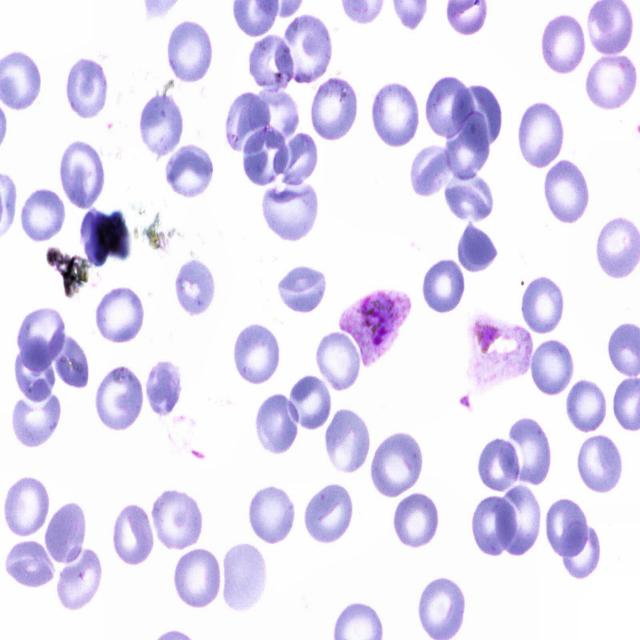difficult: (464, 315, 536, 392)
red blood cell: (370, 429, 426, 500), (281, 12, 333, 86), (424, 71, 478, 141), (56, 137, 106, 211), (494, 482, 542, 559), (503, 417, 554, 489), (94, 361, 145, 433), (223, 88, 276, 157), (16, 302, 67, 373), (260, 180, 316, 244), (451, 81, 503, 149), (370, 80, 420, 150), (54, 542, 103, 613), (443, 106, 487, 185), (152, 486, 204, 552), (518, 99, 565, 172), (302, 483, 354, 547), (543, 158, 591, 227), (247, 86, 301, 147), (166, 18, 214, 86), (42, 496, 86, 570), (538, 10, 588, 75), (324, 406, 370, 476), (94, 284, 144, 348), (310, 75, 358, 141), (544, 494, 592, 560), (12, 387, 63, 449), (222, 542, 267, 612), (2, 475, 51, 539), (584, 51, 636, 111), (472, 492, 519, 558), (232, 324, 282, 386), (173, 548, 222, 611), (594, 215, 640, 282), (576, 432, 624, 496), (285, 371, 335, 432), (139, 90, 183, 159), (240, 125, 289, 186), (248, 31, 296, 93), (248, 483, 295, 546), (528, 338, 578, 397), (14, 334, 56, 404), (66, 56, 110, 121), (520, 275, 566, 337), (406, 142, 456, 199), (392, 492, 441, 550), (315, 330, 362, 390), (162, 147, 215, 200), (276, 263, 328, 317), (255, 392, 298, 457), (112, 503, 155, 567), (558, 522, 602, 584), (475, 438, 522, 496), (4, 539, 57, 590), (442, 171, 495, 222), (19, 186, 66, 243), (422, 258, 467, 315), (274, 130, 317, 189), (50, 328, 89, 390), (144, 358, 184, 418), (564, 379, 608, 433), (456, 220, 500, 273), (175, 261, 216, 316)
schizont: (337, 288, 413, 366)
